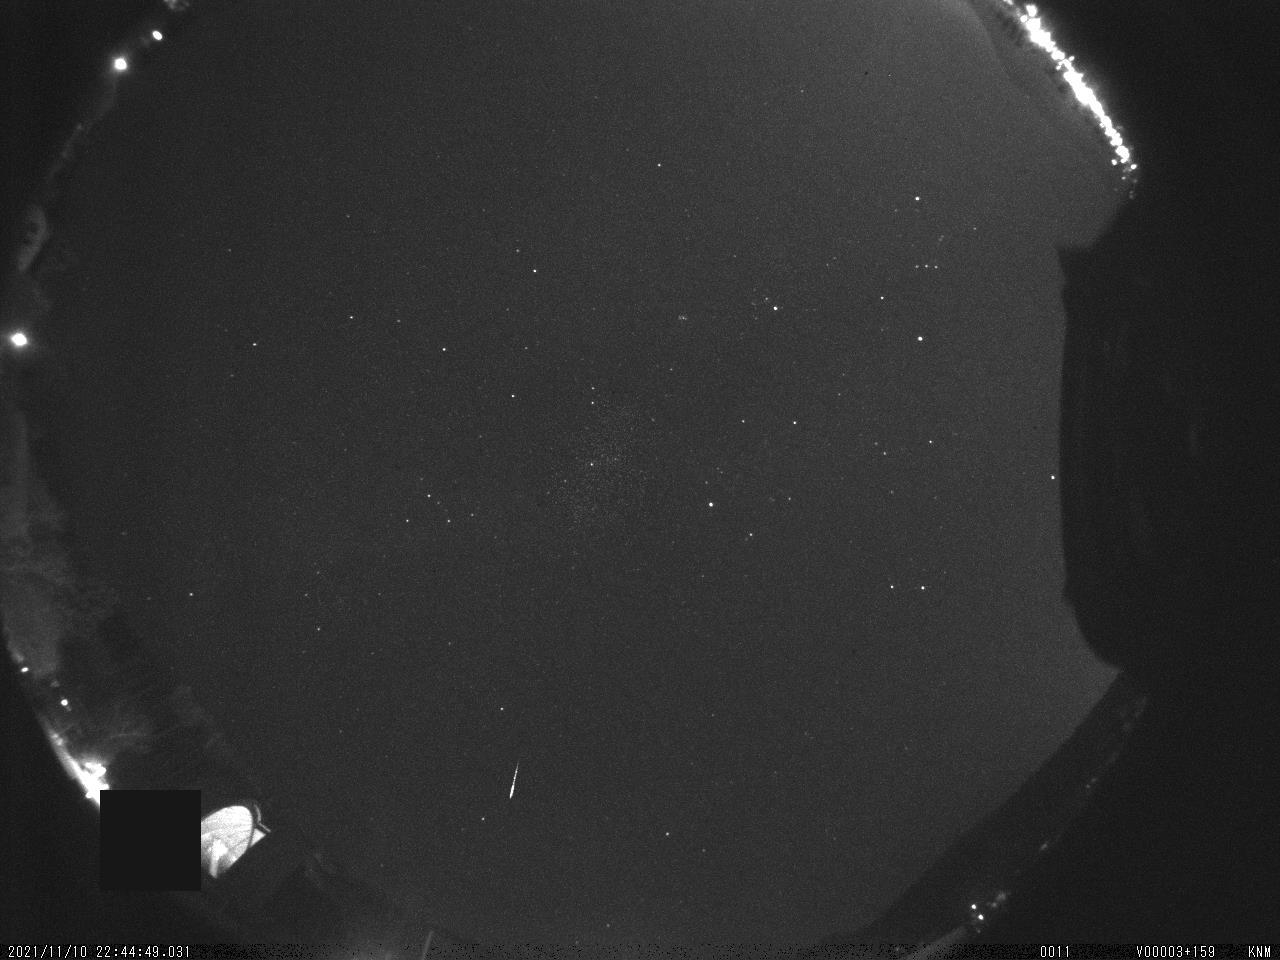meteor: (473, 741, 564, 813)
